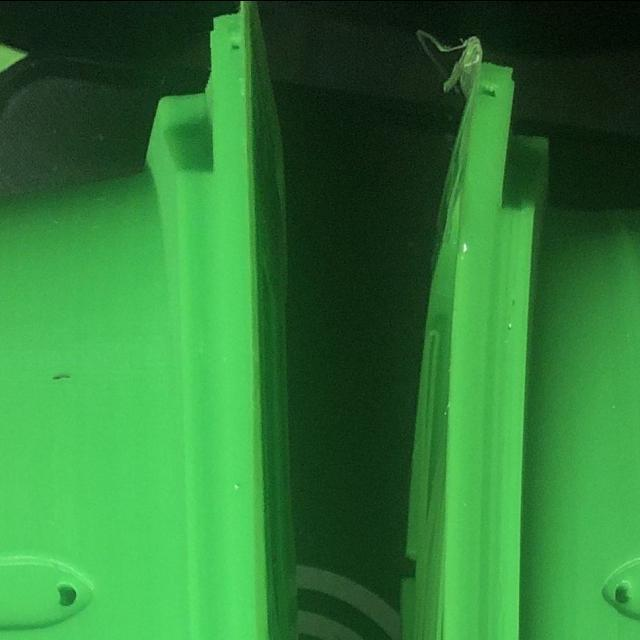Warping: (438, 61, 509, 272)
